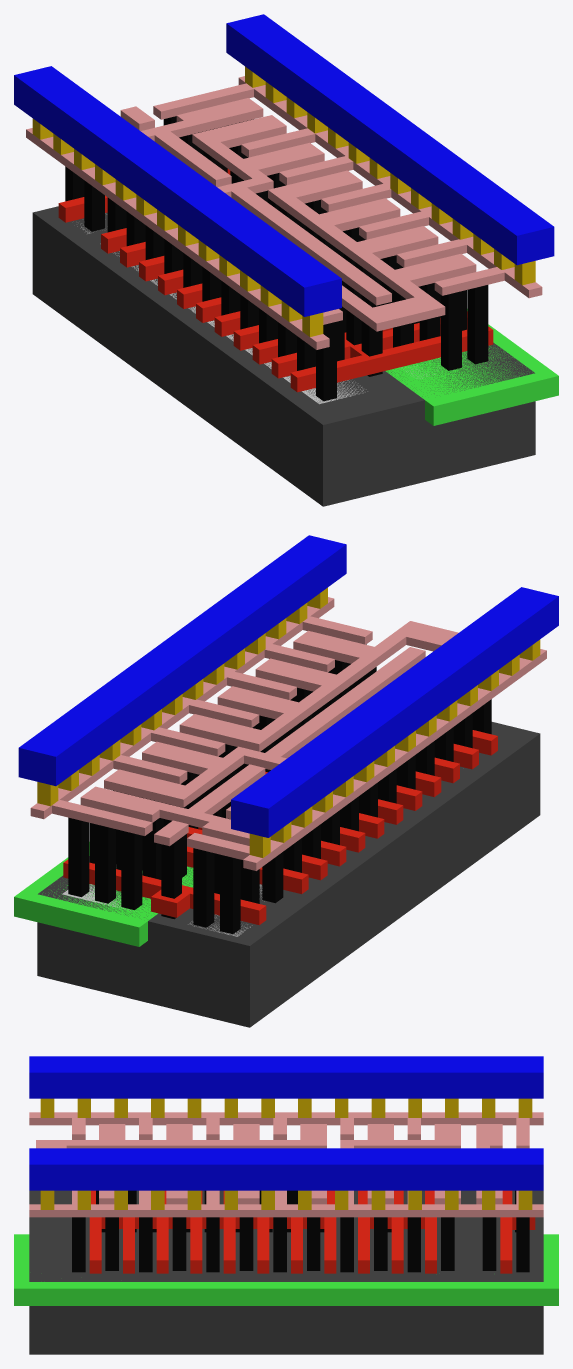
The model's file is sky130_fd_sc_hd__bufinv_8.obj.
3 renders of one model, top to bottom at view 1: azimuth 30°, elevation 25°; view 2: azimuth 150°, elevation 25°; view 3: azimuth 270°, elevation 25°, orthographic. The views are drawn at different scales.
Parts seen in each view (by area): view 1: subs, metal1, li, licon, poly, mcon, nwell, diff; view 2: subs, metal1, li, licon, poly, mcon, nwell; view 3: metal1, subs, li, nwell, licon, poly, mcon.
Boxes of the visible parts, x1,y1,x2,y2 form: subs: (32,206,535,506); metal1: (14,14,554,316); li: (26,76,542,349); licon: (65,116,488,401); poly: (58,169,493,392); mcon: (32,66,535,336); nwell: (385,309,558,425); diff: (77,213,367,404); subs: (37,722,540,1027); metal1: (18,535,558,837); li: (30,597,546,870); licon: (68,644,491,933); poly: (63,730,497,925); mcon: (37,587,540,857); nwell: (14,842,193,946); metal1: (29,1056,543,1190); subs: (29,1190,543,1354); li: (29,1112,543,1217); nwell: (14,1234,558,1305); licon: (72,1190,529,1272); poly: (89,1190,535,1273); mcon: (40,1098,532,1209).
Size of the model in its own units: 3.2 by 2.74 by 6.82.
